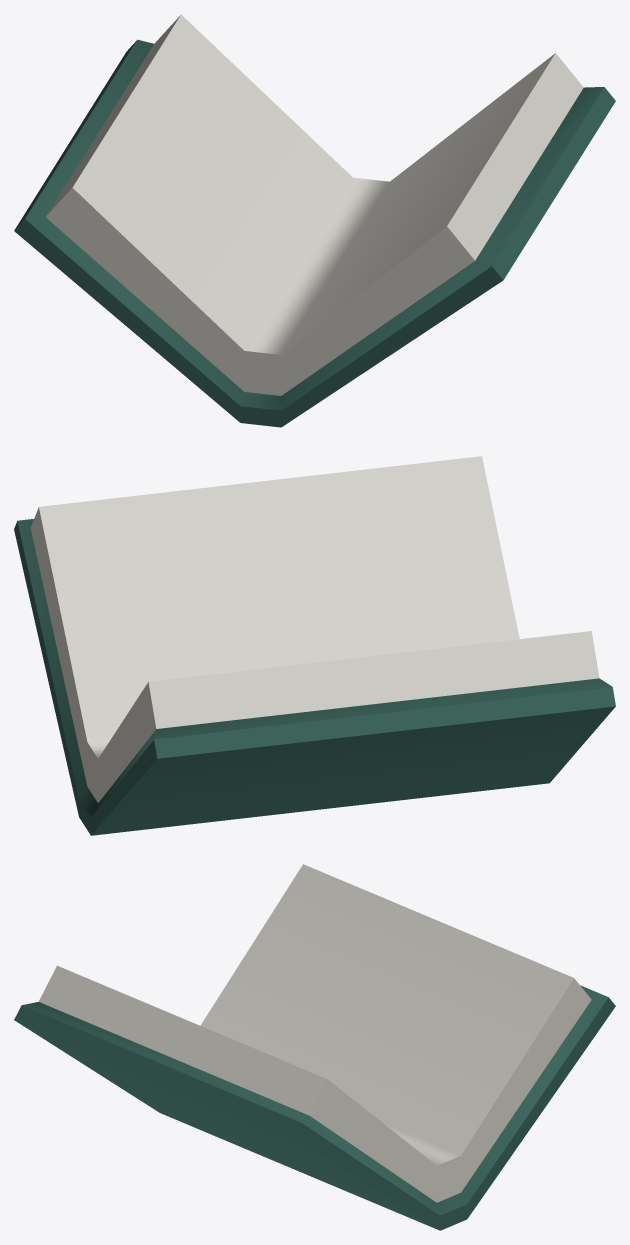
The model's file is book.fbx.
3 views of the same model, one above another, from view 1: azimuth 30°, elevation 25°; view 2: azimuth 150°, elevation 25°; view 3: azimuth 270°, elevation 25° (orthographic). The views are drawn at different scales.
Parts seen in each view (by area): view 1: book; view 2: book; view 3: book.
Boxes of the visible parts, bbox=[...] form: book: bbox=[14, 14, 615, 427]; book: bbox=[14, 456, 615, 835]; book: bbox=[14, 864, 615, 1230].
Bounding box in the file's own units: 0.327 × 0.1169 × 0.3269.
